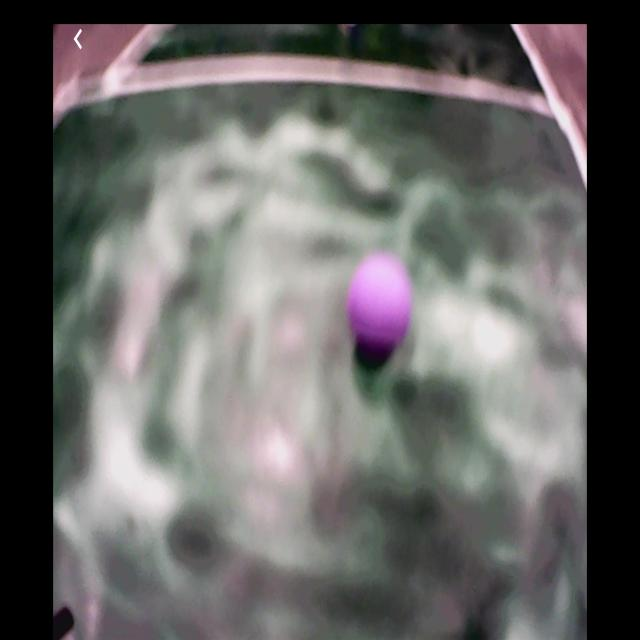ball: (349, 250, 413, 352)
